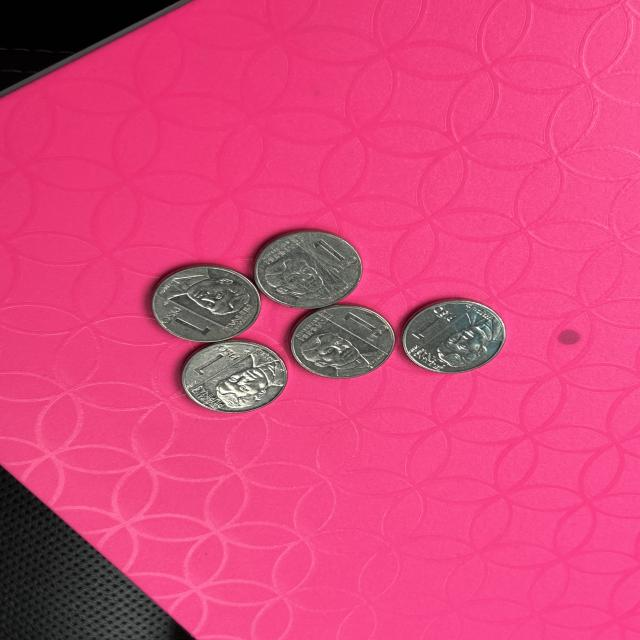1_New_Front: (408, 306, 470, 343), (311, 233, 357, 277), (189, 352, 256, 377), (157, 308, 212, 338), (341, 306, 382, 344)
